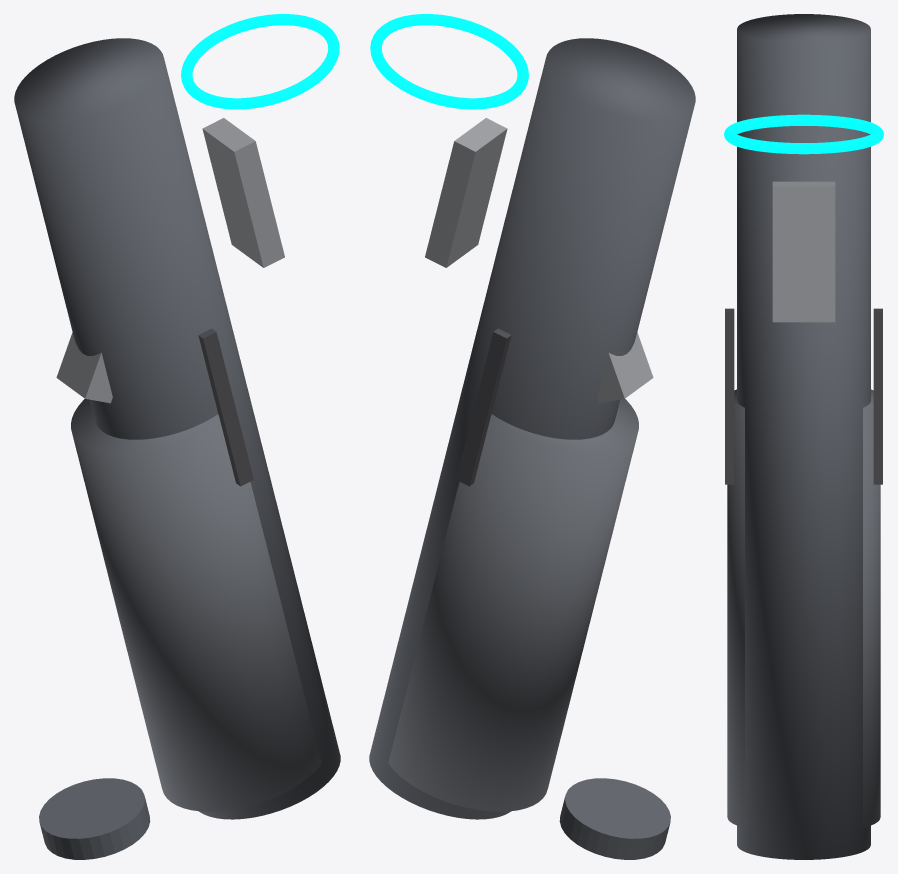
Rendered from concept_2_airwand_elite.glb.
The picture shows the model from 3 angles, left to right: view 1: azimuth 30°, elevation 25°; view 2: azimuth 150°, elevation 25°; view 3: azimuth 270°, elevation 25°; orthographic projection.
Parts seen in each view (by area): view 1: AirWand_MainSpine_Aluminum, AirWand_LowerGrip_Rubber, AirWand_DockBase, AirWand_ThumbRocker_5Way, AirWand_CyanEmitterRing, AirWand_SqueezePad_L, AirWand_IndexTrigger; view 2: AirWand_MainSpine_Aluminum, AirWand_LowerGrip_Rubber, AirWand_DockBase, AirWand_ThumbRocker_5Way, AirWand_CyanEmitterRing, AirWand_SqueezePad_R, AirWand_IndexTrigger; view 3: AirWand_MainSpine_Aluminum, AirWand_LowerGrip_Rubber, AirWand_ThumbRocker_5Way, AirWand_CyanEmitterRing, AirWand_SqueezePad_L, AirWand_SqueezePad_R.
Part boxes in pixels (bbox=[...]): AirWand_MainSpine_Aluminum: bbox=[14, 38, 340, 819]; AirWand_LowerGrip_Rubber: bbox=[71, 399, 321, 811]; AirWand_DockBase: bbox=[39, 778, 150, 859]; AirWand_ThumbRocker_5Way: bbox=[202, 118, 284, 267]; AirWand_CyanEmitterRing: bbox=[181, 14, 339, 109]; AirWand_SqueezePad_L: bbox=[198, 328, 253, 486]; AirWand_IndexTrigger: bbox=[56, 332, 112, 403]; AirWand_MainSpine_Aluminum: bbox=[369, 38, 695, 819]; AirWand_LowerGrip_Rubber: bbox=[388, 399, 638, 811]; AirWand_DockBase: bbox=[559, 778, 670, 859]; AirWand_ThumbRocker_5Way: bbox=[425, 118, 507, 267]; AirWand_CyanEmitterRing: bbox=[370, 14, 528, 109]; AirWand_SqueezePad_R: bbox=[456, 328, 511, 486]; AirWand_IndexTrigger: bbox=[597, 332, 653, 403]; AirWand_MainSpine_Aluminum: bbox=[737, 14, 870, 859]; AirWand_LowerGrip_Rubber: bbox=[727, 389, 880, 827]; AirWand_ThumbRocker_5Way: bbox=[772, 181, 835, 322]; AirWand_CyanEmitterRing: bbox=[724, 114, 883, 154]; AirWand_SqueezePad_L: bbox=[725, 308, 734, 484]; AirWand_SqueezePad_R: bbox=[873, 308, 882, 484].
Bounding box in the file's own units: 0.0562 × 0.1351 × 0.0254.
